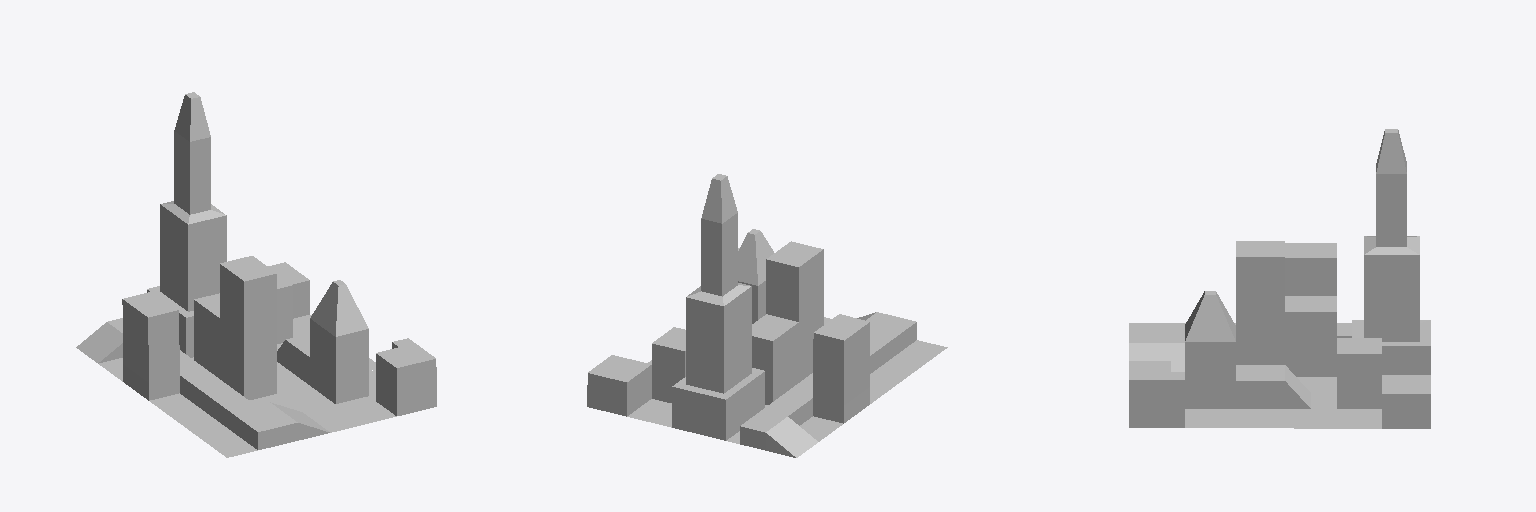
Rendered from cityscape.obj.
3 renders of one model, left to right at view 1: azimuth 30°, elevation 25°; view 2: azimuth 150°, elevation 25°; view 3: azimuth 270°, elevation 25°, orthographic.
Bounding box in the file's own units: 7.67 × 8.47 × 9.57.